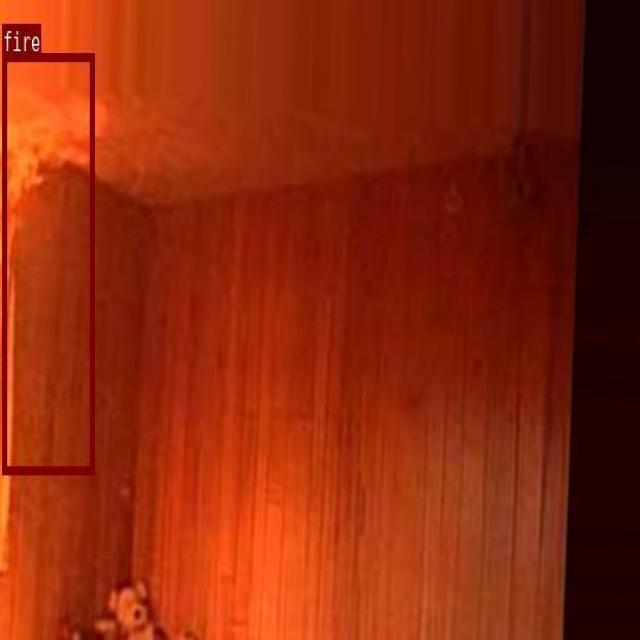fire: (2, 52, 93, 472)
